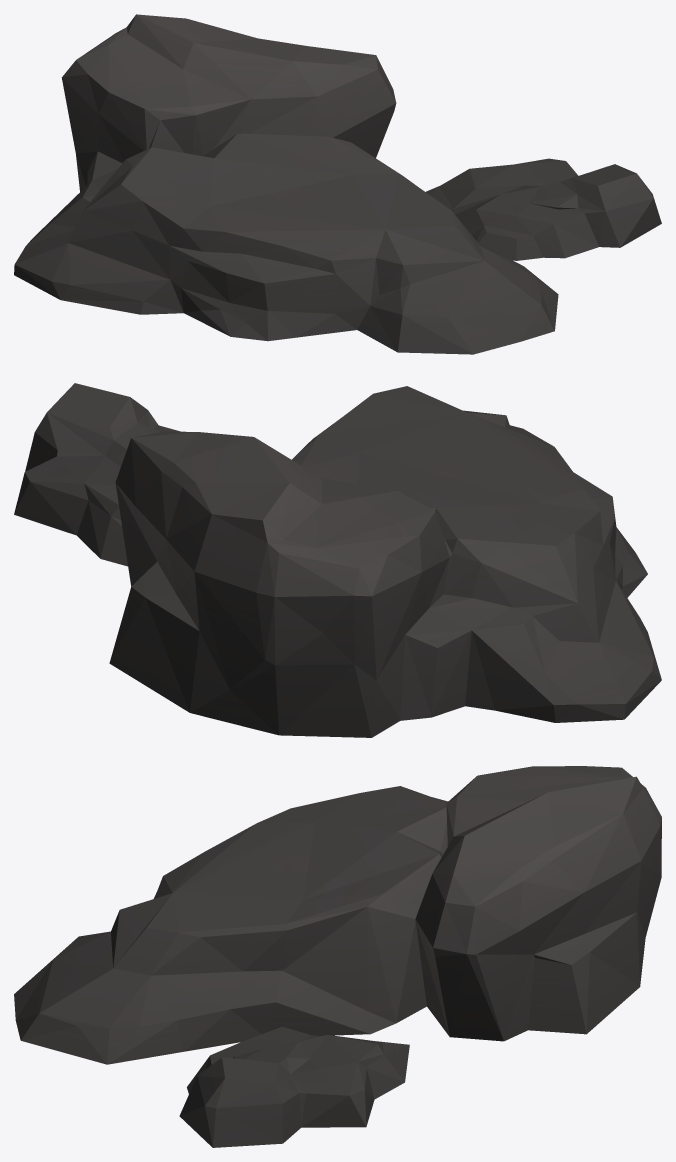
Rendered from ZLP_Rock_E_6.FBX.
3 renders of one model, top to bottom at view 1: azimuth 30°, elevation 25°; view 2: azimuth 150°, elevation 25°; view 3: azimuth 270°, elevation 25°, orthographic. The views are drawn at different scales.
Visible parts, largest first — view 1: ZLP_Rock_E_6; view 2: ZLP_Rock_E_6; view 3: ZLP_Rock_E_6.
Part boxes in pixels (box(x1,y1,x2,y2)): ZLP_Rock_E_6: box(14, 14, 661, 354); ZLP_Rock_E_6: box(14, 383, 661, 737); ZLP_Rock_E_6: box(14, 766, 661, 1147).
Size of the model in its own units: 258 by 72.14 by 234.
